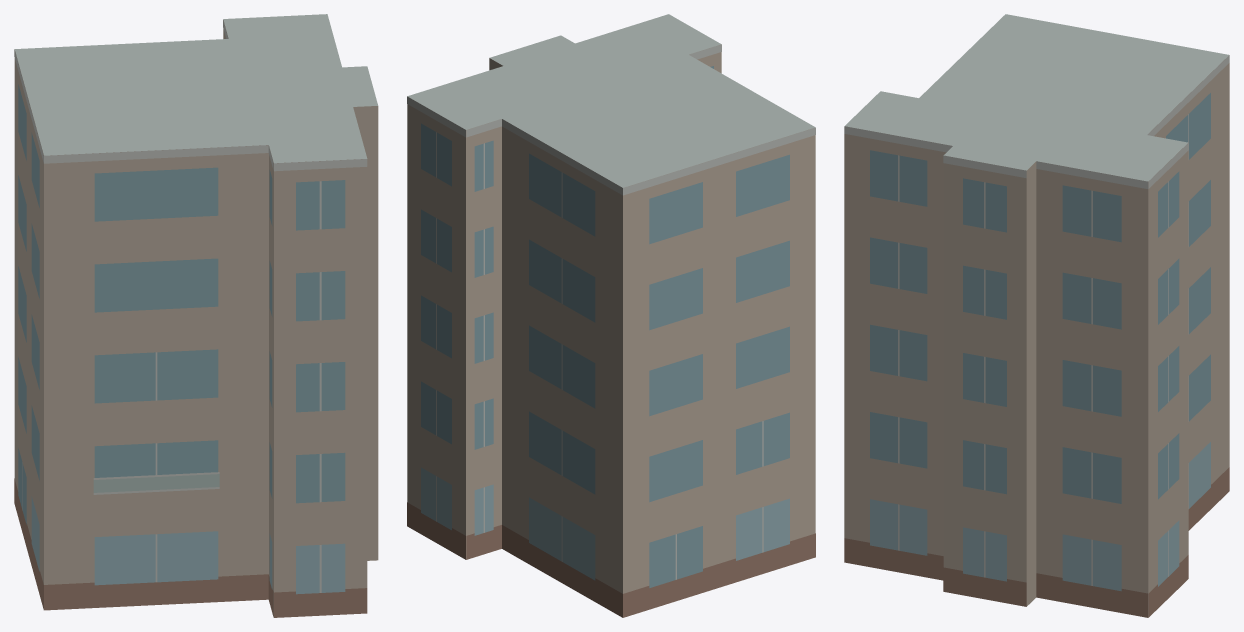
The model's file is survey-upis-32555269.glb.
3 renders of one model, left to right at view 1: azimuth 30°, elevation 25°; view 2: azimuth 150°, elevation 25°; view 3: azimuth 270°, elevation 25°, orthographic. The views are drawn at different scales.
Parts seen in each view (by area): view 1: survey-upis-32555269.tmp; view 2: survey-upis-32555269.tmp; view 3: survey-upis-32555269.tmp.
Part boxes in pixels (x1,y1,x2,y2): survey-upis-32555269.tmp: (14, 14, 378, 617); survey-upis-32555269.tmp: (407, 14, 815, 617); survey-upis-32555269.tmp: (844, 14, 1229, 617).
Bounding box in the file's own units: 11.42 × 13.85 × 11.09.
